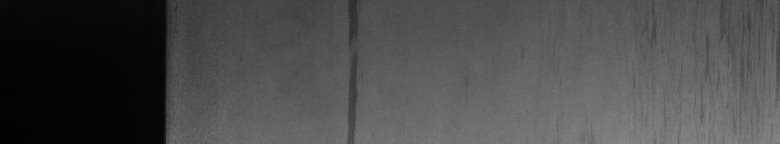hd: (344, 4, 360, 136)
